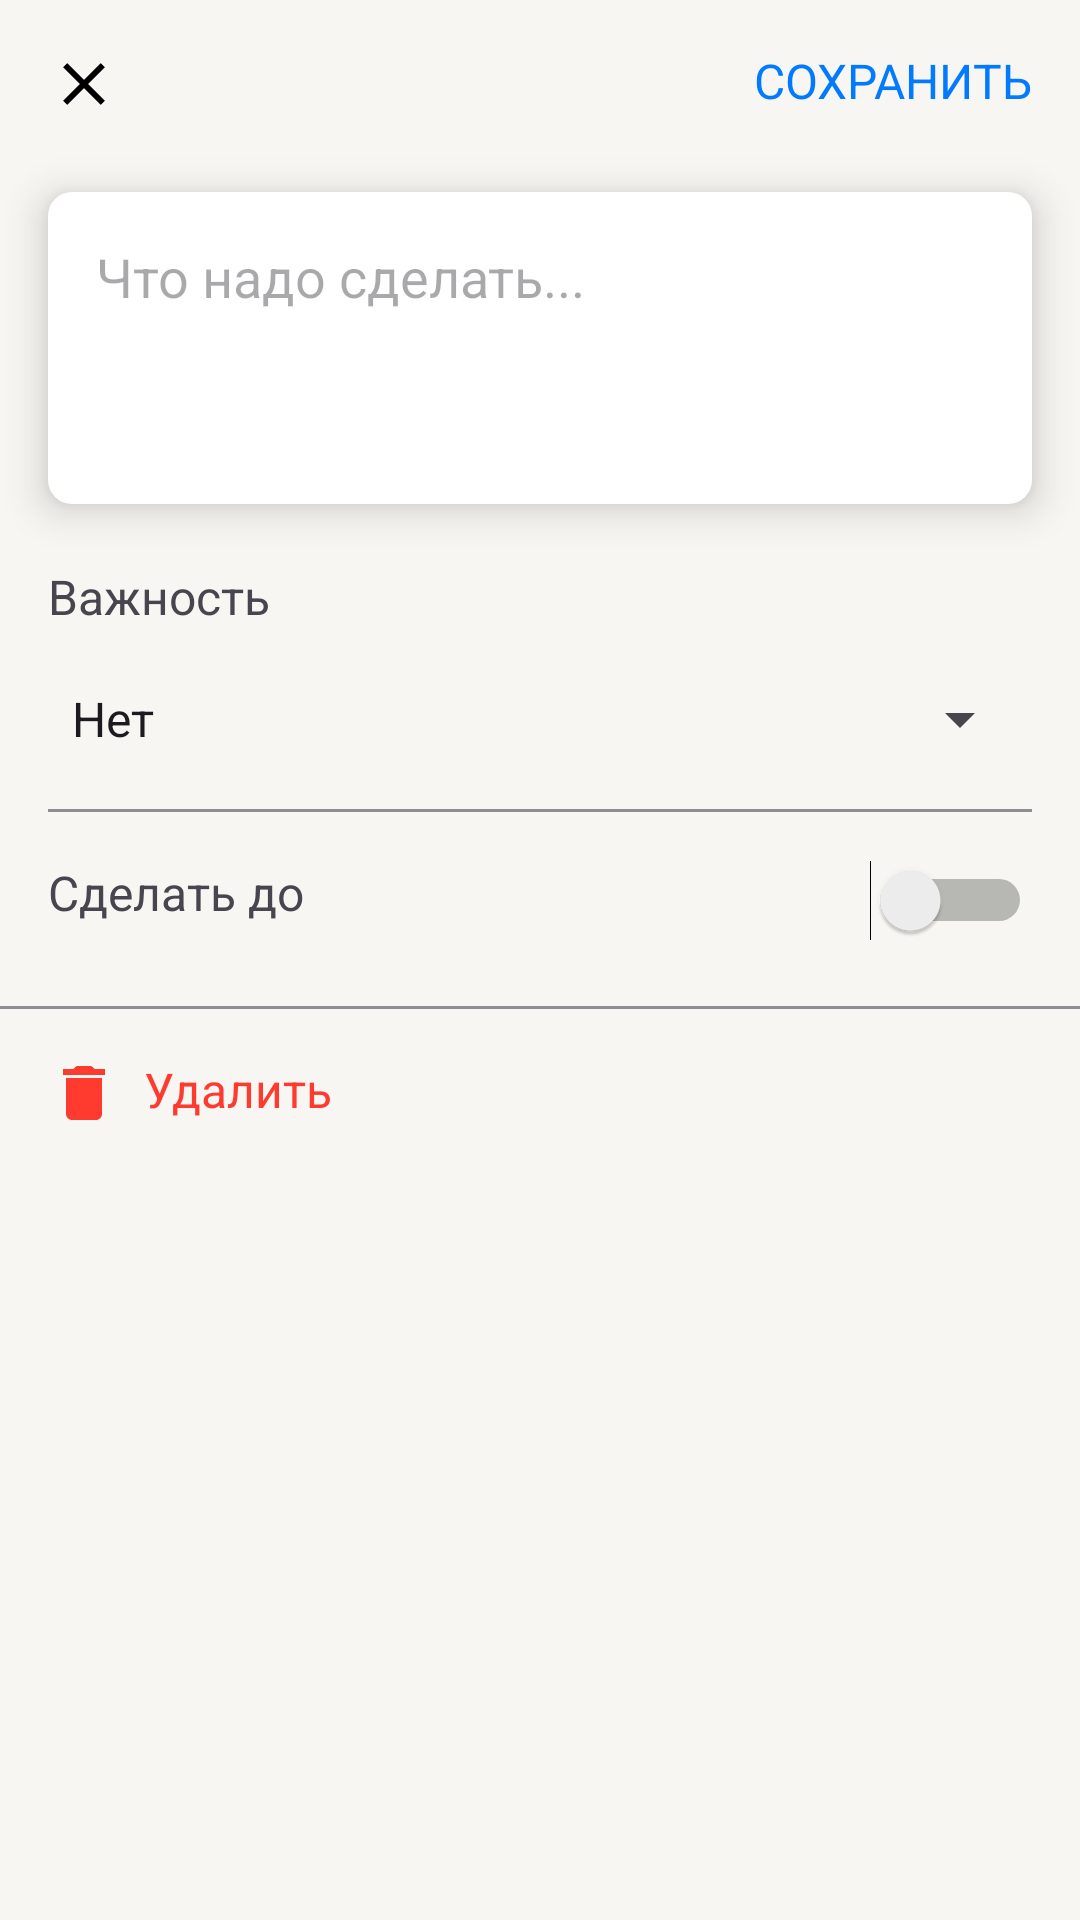

Where to tap for icons on this 1080w x 1920h app screen, as [x,y]:
close: [84,84]
delete: [84,1093]
